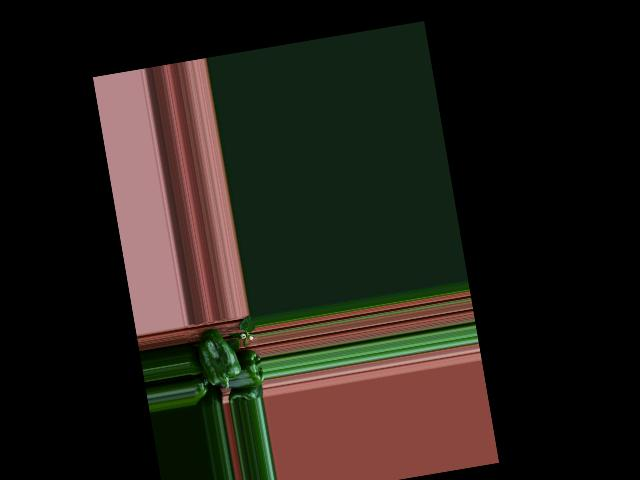bell_pepper: (191, 377, 213, 405)
